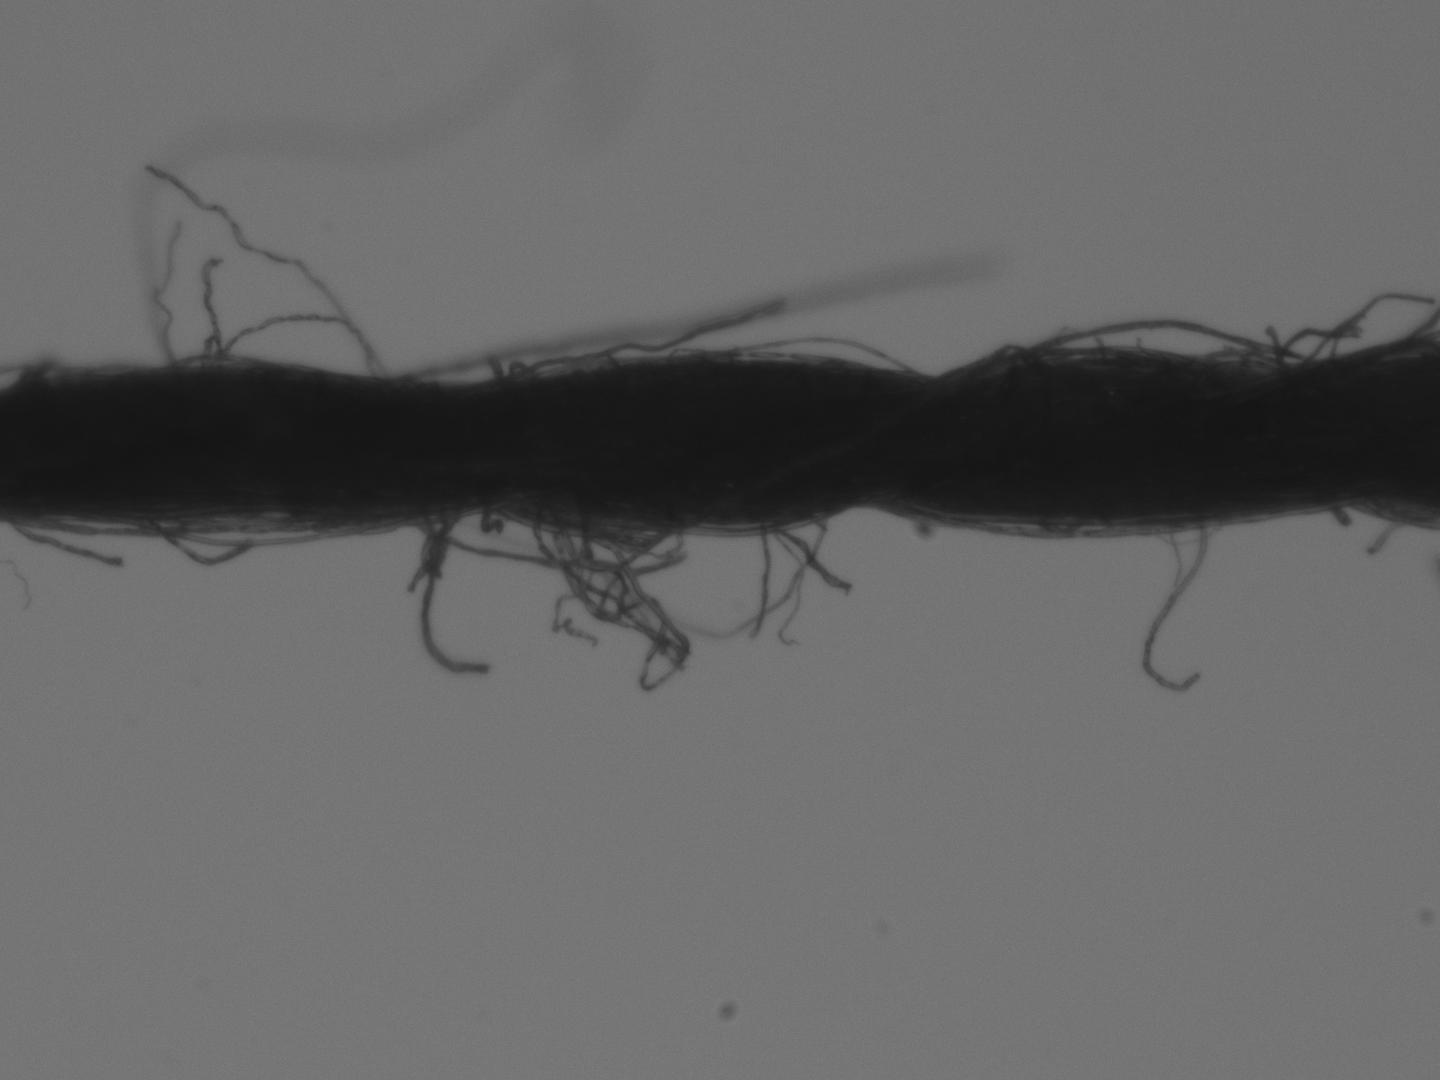loop_fiber: (531, 513, 691, 692), (412, 507, 687, 573), (996, 314, 1302, 370), (212, 314, 378, 385), (713, 336, 907, 369), (1201, 346, 1302, 372), (494, 362, 543, 382)
protruding_fiber: (1138, 522, 1215, 697), (420, 508, 490, 680), (7, 523, 127, 572), (746, 526, 773, 648), (203, 254, 231, 360), (1370, 520, 1404, 557)
